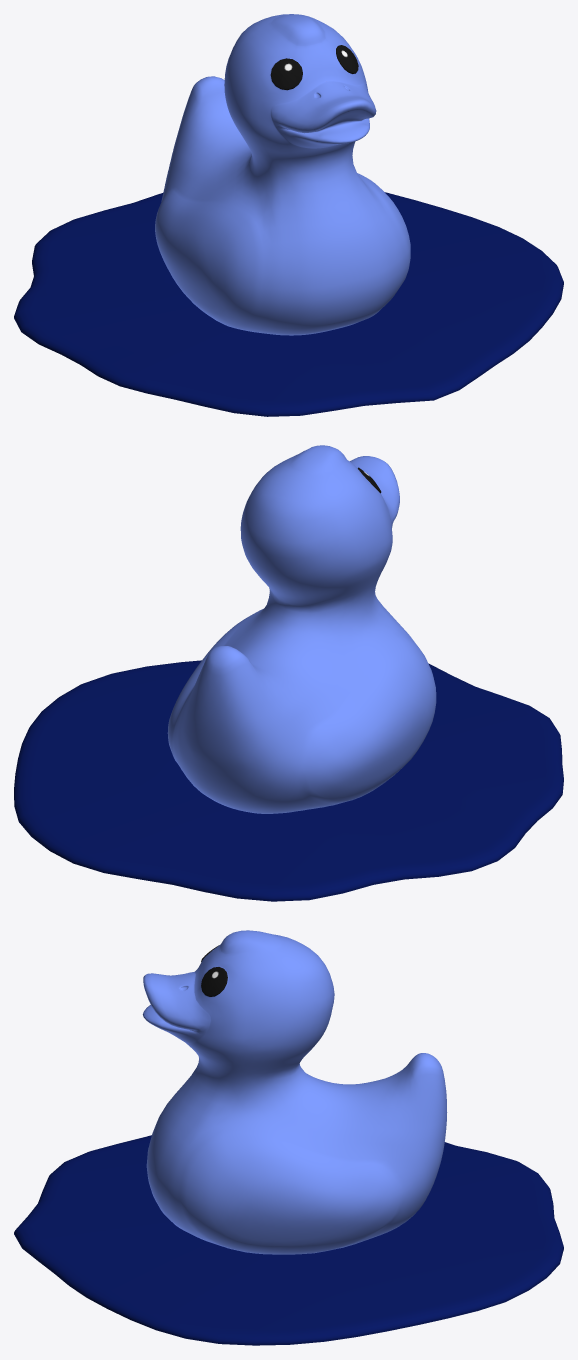
The model's file is final_duck.glb.
The picture shows the model from 3 angles, top to bottom: view 1: azimuth 30°, elevation 25°; view 2: azimuth 150°, elevation 25°; view 3: azimuth 270°, elevation 25°; orthographic projection. The views are drawn at different scales.
Parts seen in each view (by area): view 1: Zylinder, Duck; view 2: Zylinder, Duck; view 3: Duck, Zylinder.
Part boxes in pixels (x1,y1,x2,y2): Zylinder: (14, 192, 563, 416); Duck: (155, 14, 410, 335); Zylinder: (14, 660, 563, 901); Duck: (167, 445, 436, 813); Duck: (142, 930, 447, 1254); Zylinder: (14, 1135, 563, 1345).
Bounding box in the file's own units: 8.77 × 5.28 × 8.99.
2 materials, 1 textured.
